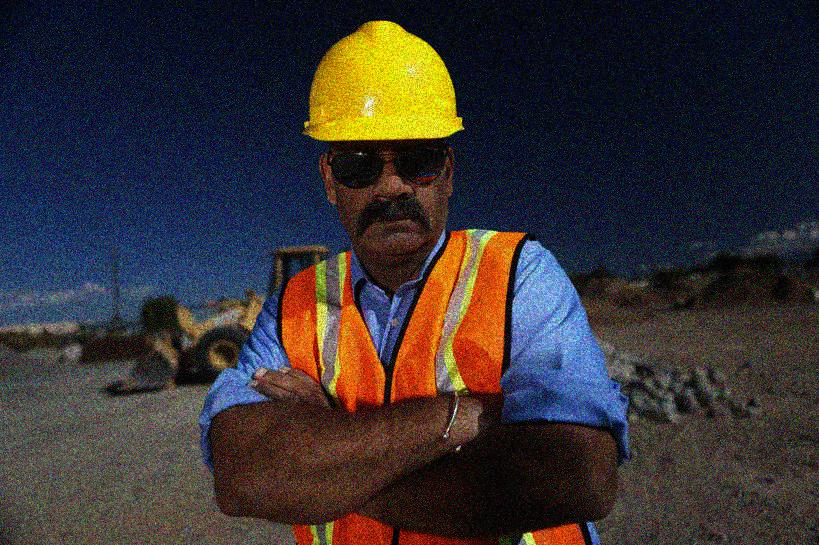helmet: (299, 19, 466, 262)
